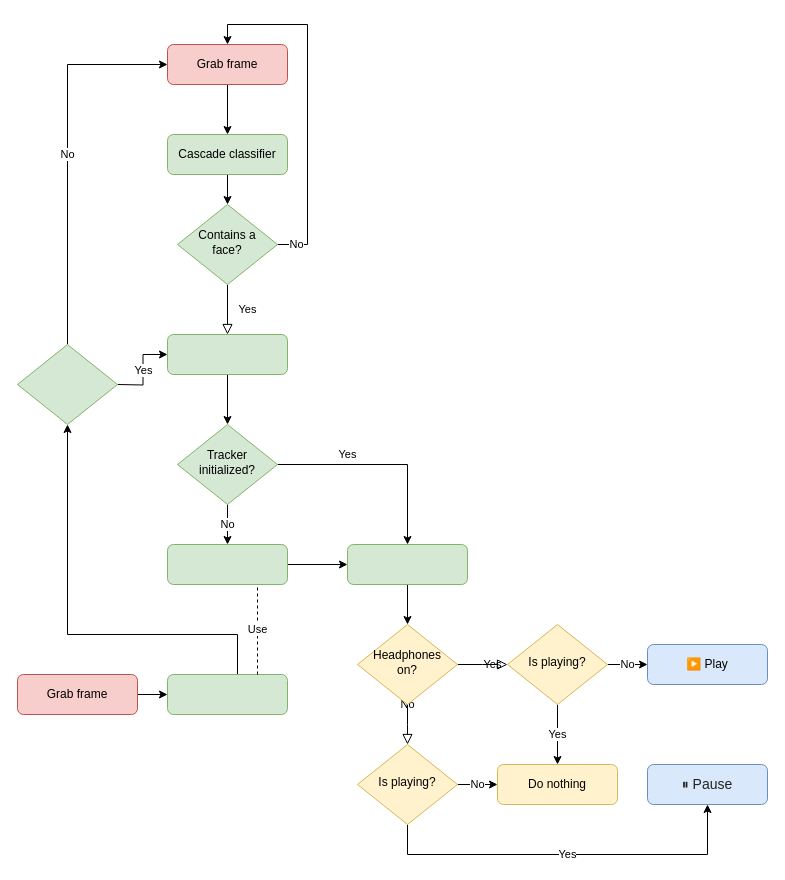
Image size: 785x880. Some labels were removed from this diagram. The centre of each missing label's shape, as x and y in pixels:
"Classify crop" goes at (407,564).
"Crop face" goes at (227,354).
"Initialize Tracker" goes at (227,564).
"Track face" goes at (227,694).
"Track succeeded?" goes at (67,384).
